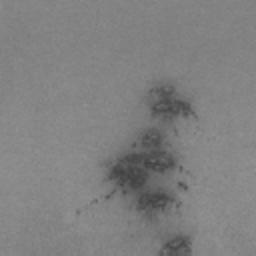Iron sheet ash: (101, 125, 177, 202), (147, 84, 200, 119), (133, 192, 182, 215), (157, 236, 193, 256), (178, 182, 189, 191)
